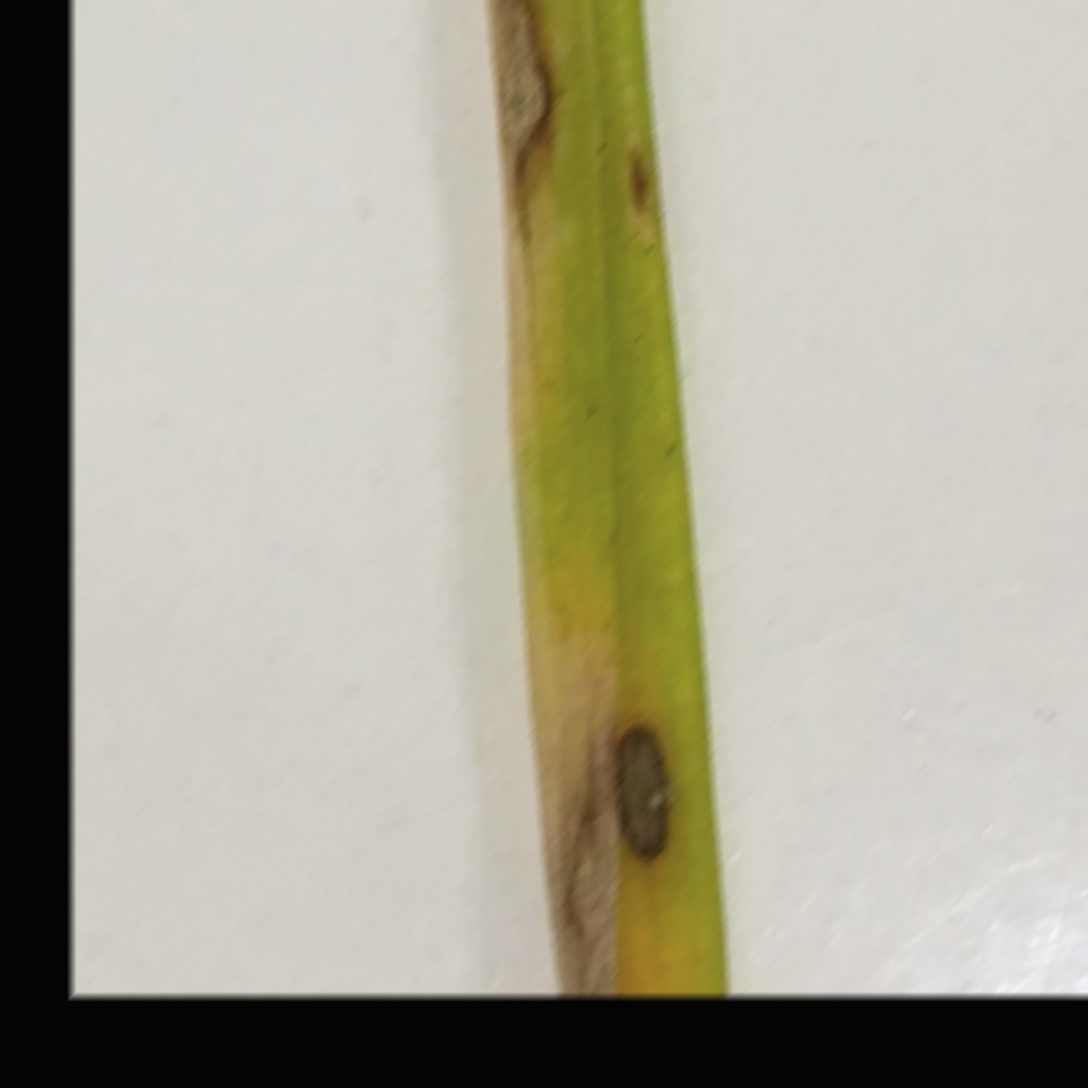Brown_Spot: (565, 639, 695, 905), (459, 0, 559, 240), (620, 129, 668, 224)
